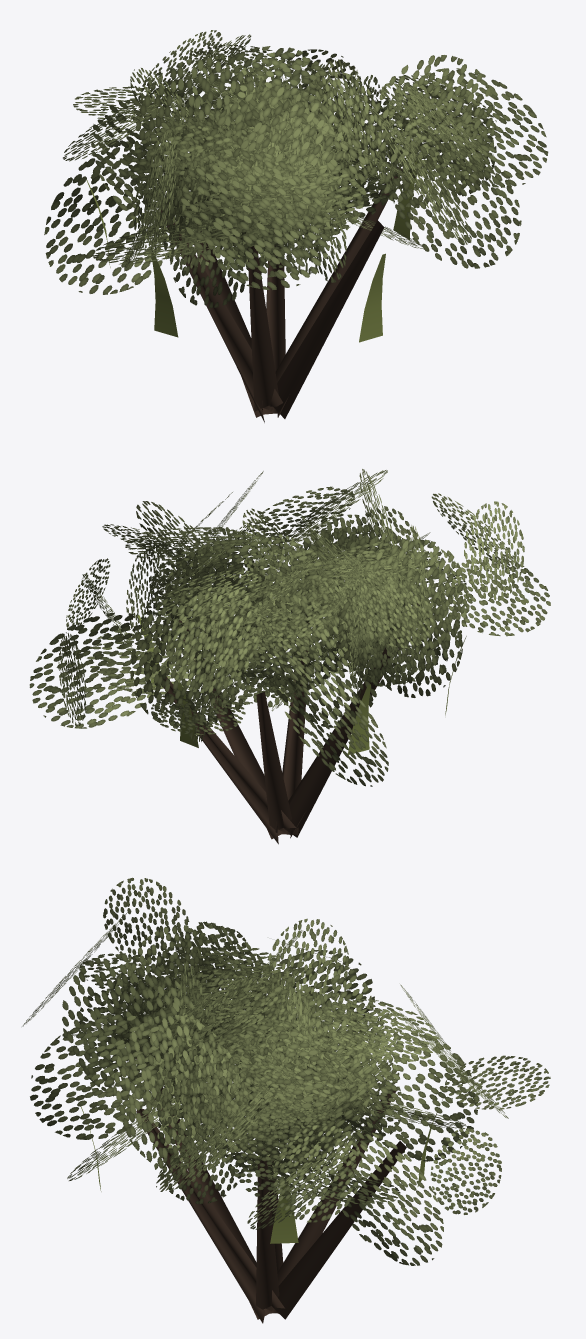
File: caral_pacae_lod1.glb
The picture shows the model from 3 angles, top to bottom: view 1: azimuth 30°, elevation 25°; view 2: azimuth 150°, elevation 25°; view 3: azimuth 270°, elevation 25°; orthographic projection. The views are drawn at different scales.
Visible parts, largest first — view 1: GEO-Kit_pacae_LOD1; view 2: GEO-Kit_pacae_LOD1; view 3: GEO-Kit_pacae_LOD1.
Part boxes in pixels (x1,y1,x2,y2): GEO-Kit_pacae_LOD1: (44, 30, 548, 422); GEO-Kit_pacae_LOD1: (29, 469, 550, 844); GEO-Kit_pacae_LOD1: (22, 877, 550, 1323).
Size of the model in its own units: 2.02 by 1.54 by 1.95.
Materials: 3 (1 with a texture image).
